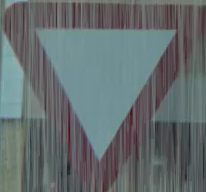Give way: (1, 2, 191, 178)
